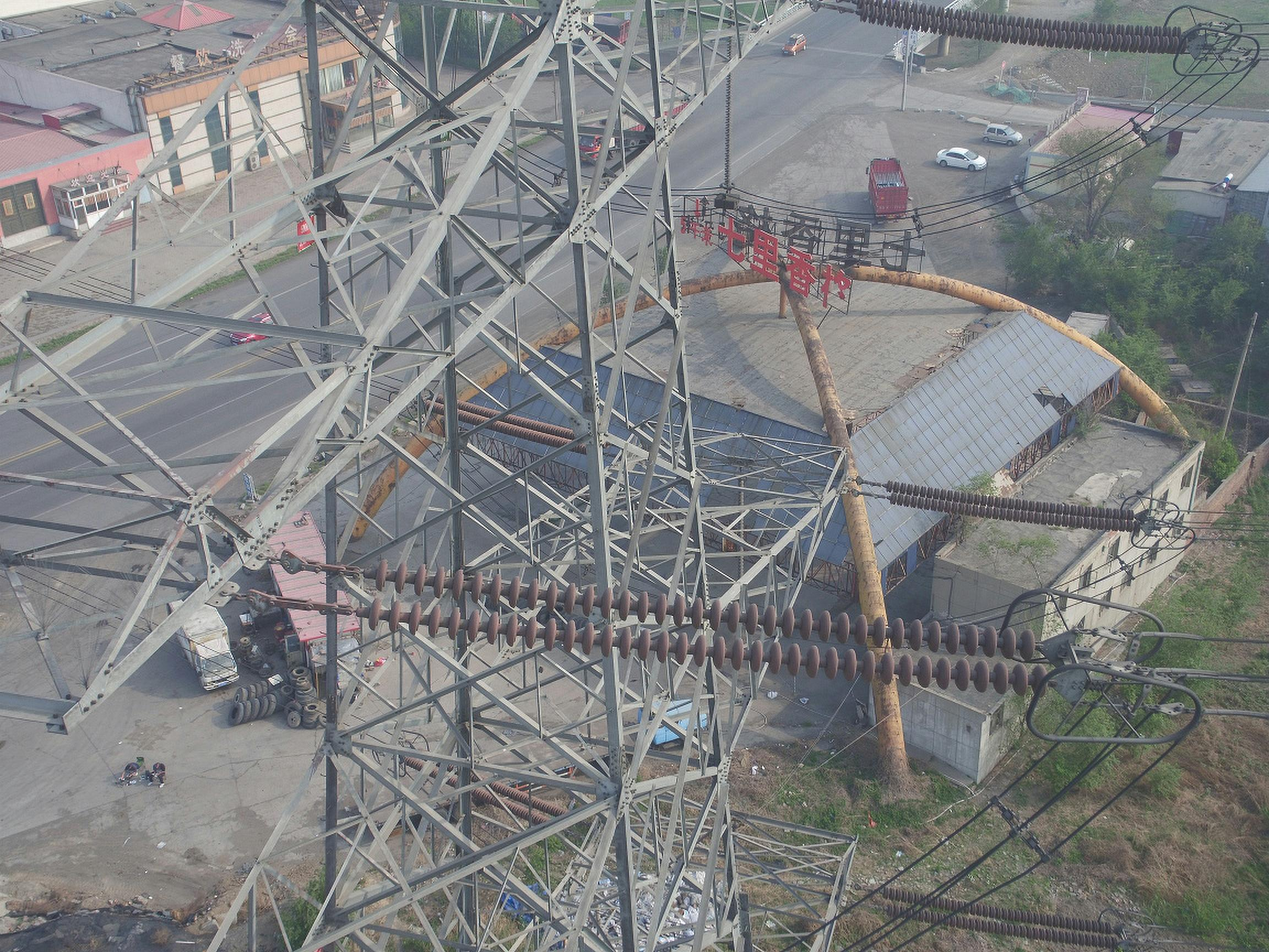insulator: (362, 555, 1054, 702), (853, 1, 1190, 57), (880, 885, 1120, 952), (884, 478, 1143, 536), (398, 747, 572, 826), (422, 390, 590, 456), (722, 36, 734, 186)
